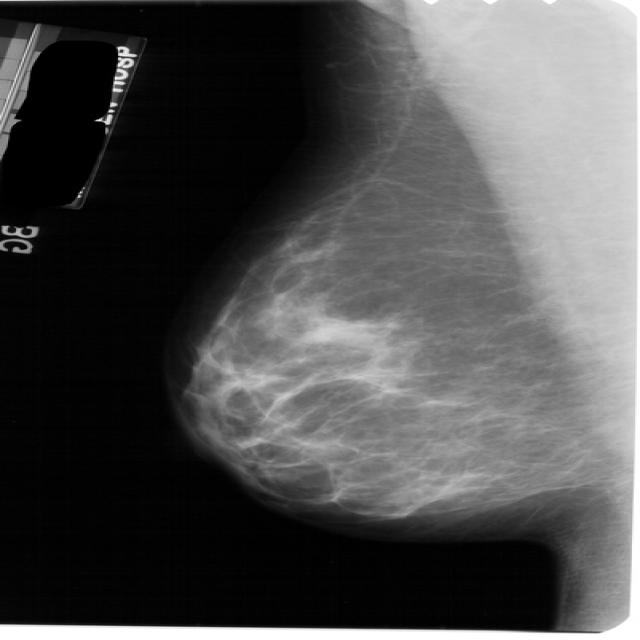tumour: (300, 316, 361, 344)
